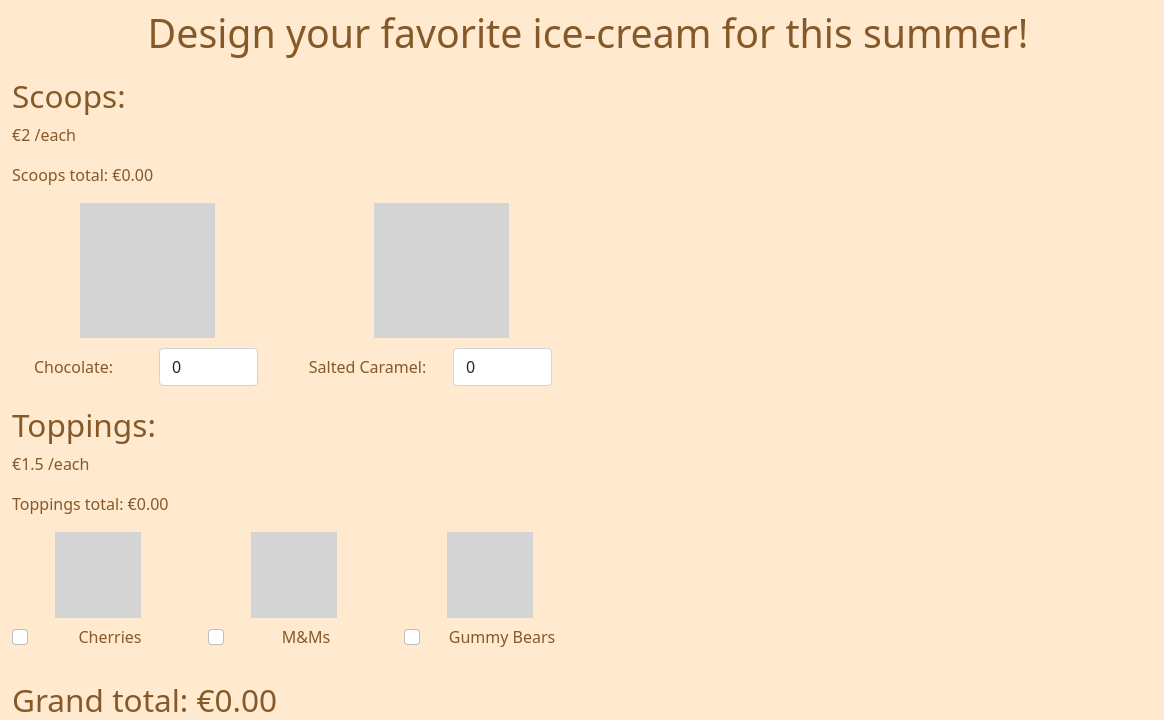
it: grand total › grand total updates if 1 topping added first
Expected: the heading "Grand total: €0.00" is shown, [12,678,277,719]
Click the checkbox labelled "M&Ms" at (216, 637), box [208,629,224,645]
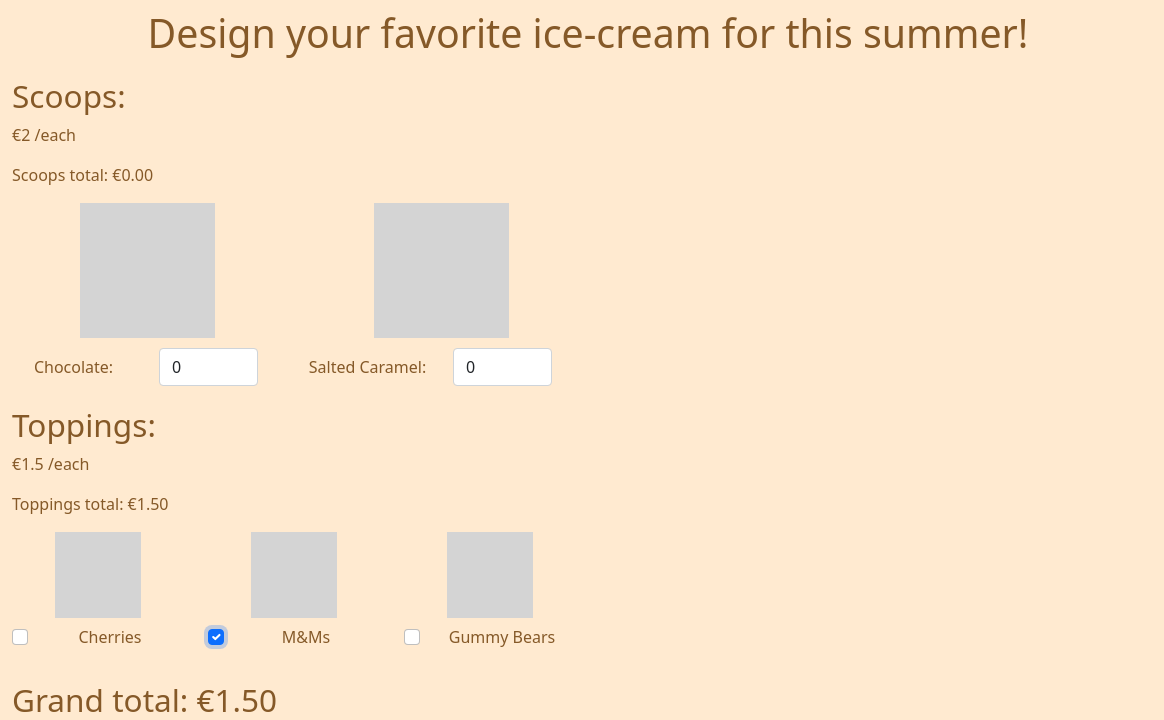
Now the heading "Grand total: €1.50" is shown, box [12,678,277,719]
Replace the text in the number field labelled "Salted Caramel:" with "2" at (502, 367), box [453,348,552,386]
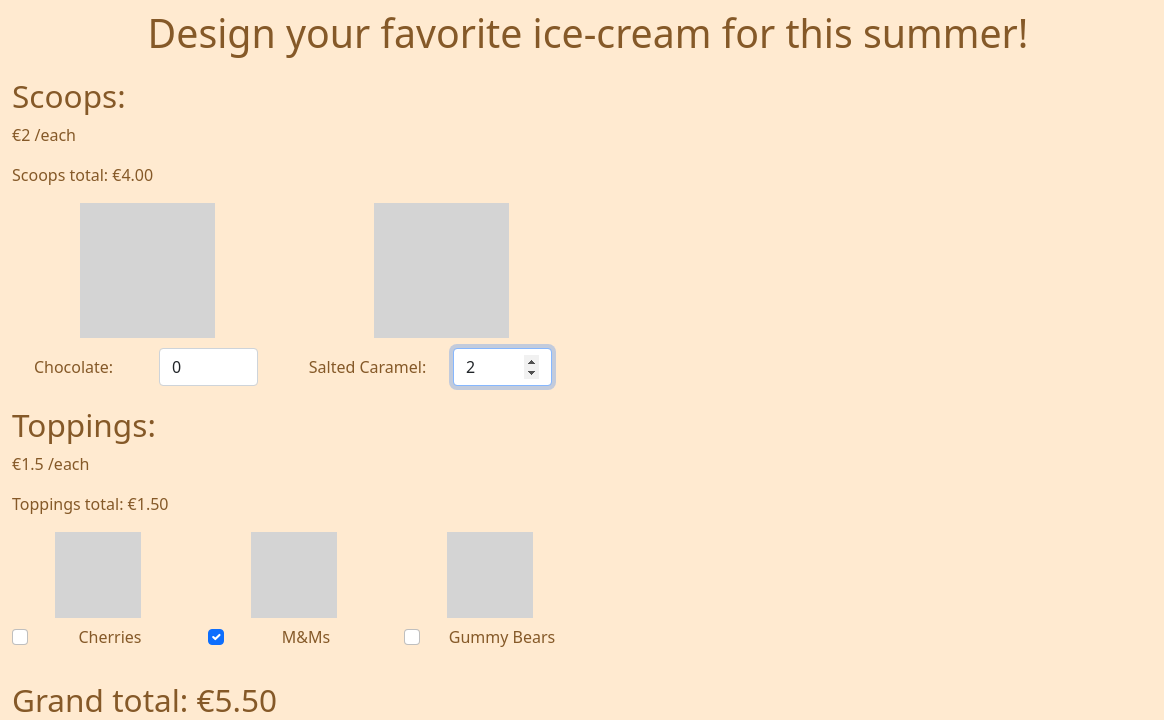
Now the heading "Grand total: €5.50" is shown, box [12,678,277,719]
